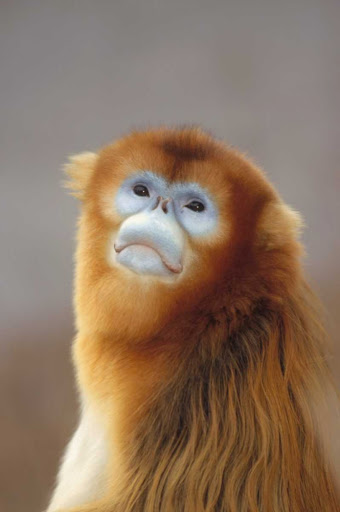GoldenSnub-Nosed: (50, 122, 327, 505)
